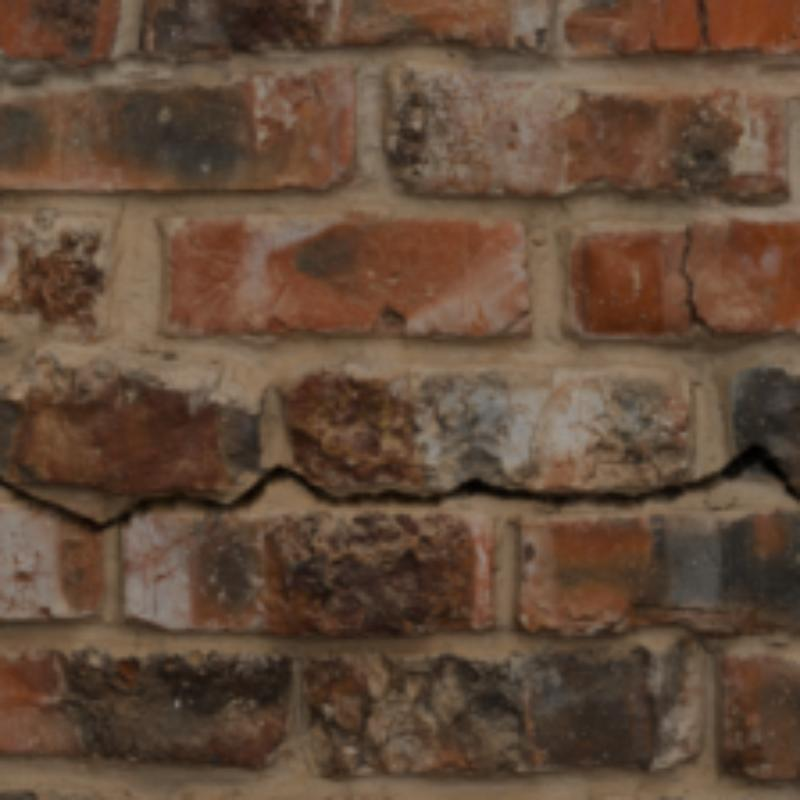pothole: (0, 443, 796, 536), (682, 225, 707, 332), (696, 0, 711, 46)
